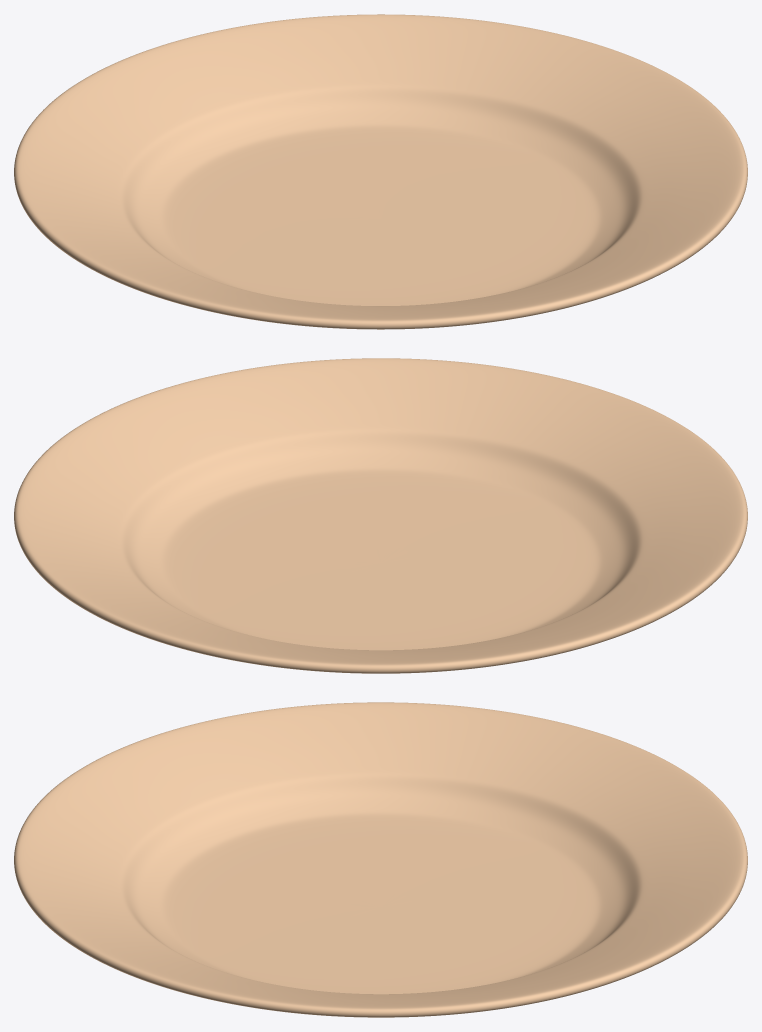
File: plate_interactable.fbx
3 views of the same model, one above another, from view 1: azimuth 30°, elevation 25°; view 2: azimuth 150°, elevation 25°; view 3: azimuth 270°, elevation 25° (orthographic).
Parts seen in each view (by area): view 1: plate_interactable; view 2: plate_interactable; view 3: plate_interactable.
Part boxes in pixels (x1=…): plate_interactable: x1=14, y1=14, x2=747, y2=329; plate_interactable: x1=14, y1=358, x2=747, y2=673; plate_interactable: x1=14, y1=702, x2=747, y2=1017.
Size of the model in its own units: 173 by 16.5 by 173.
